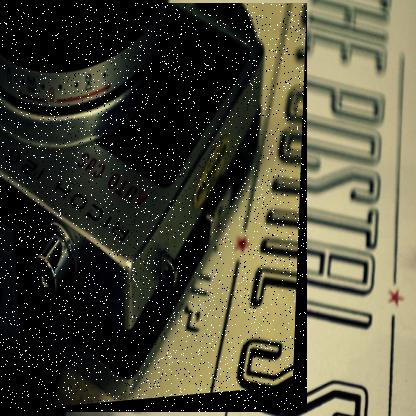Camera: (1, 4, 309, 414)
